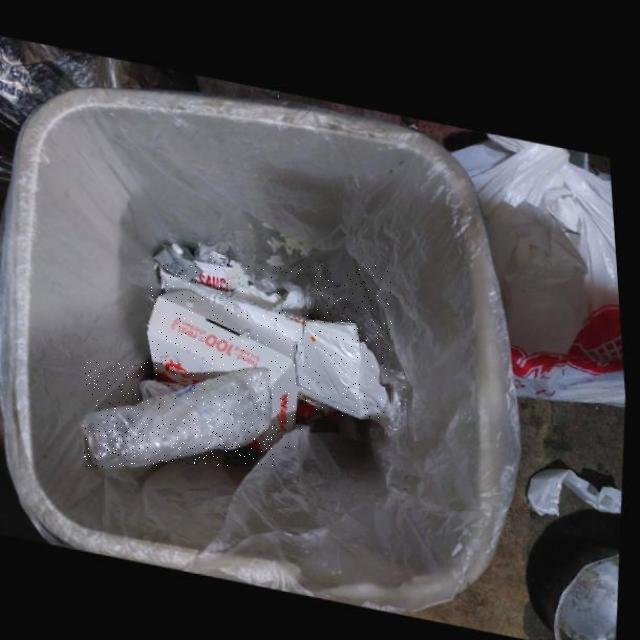paper: (151, 286, 302, 449), (238, 275, 311, 309), (138, 377, 189, 397)
plastic: (164, 265, 392, 418), (84, 362, 276, 466)
wrapper: (198, 256, 240, 290)
